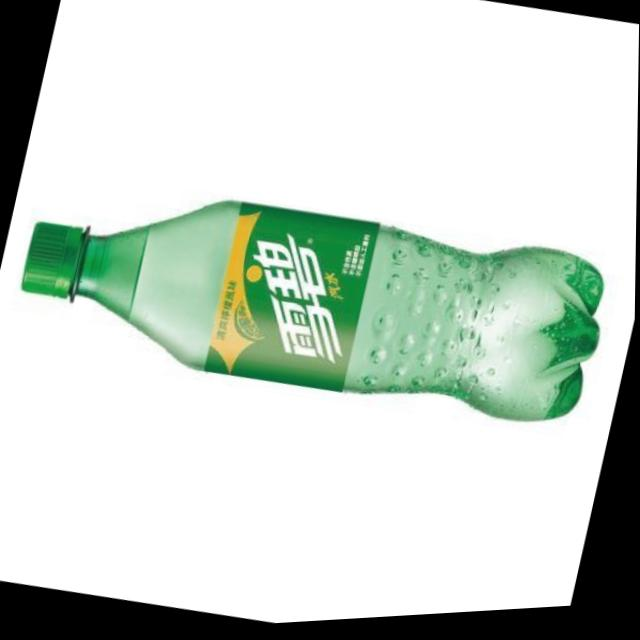anorganik: (3, 137, 600, 466)
